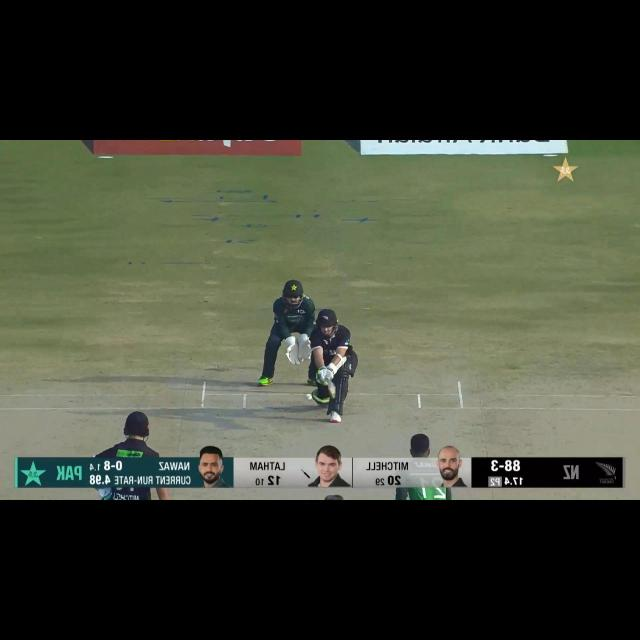bat: (323, 378, 338, 399)
toe: (326, 383, 336, 400)
